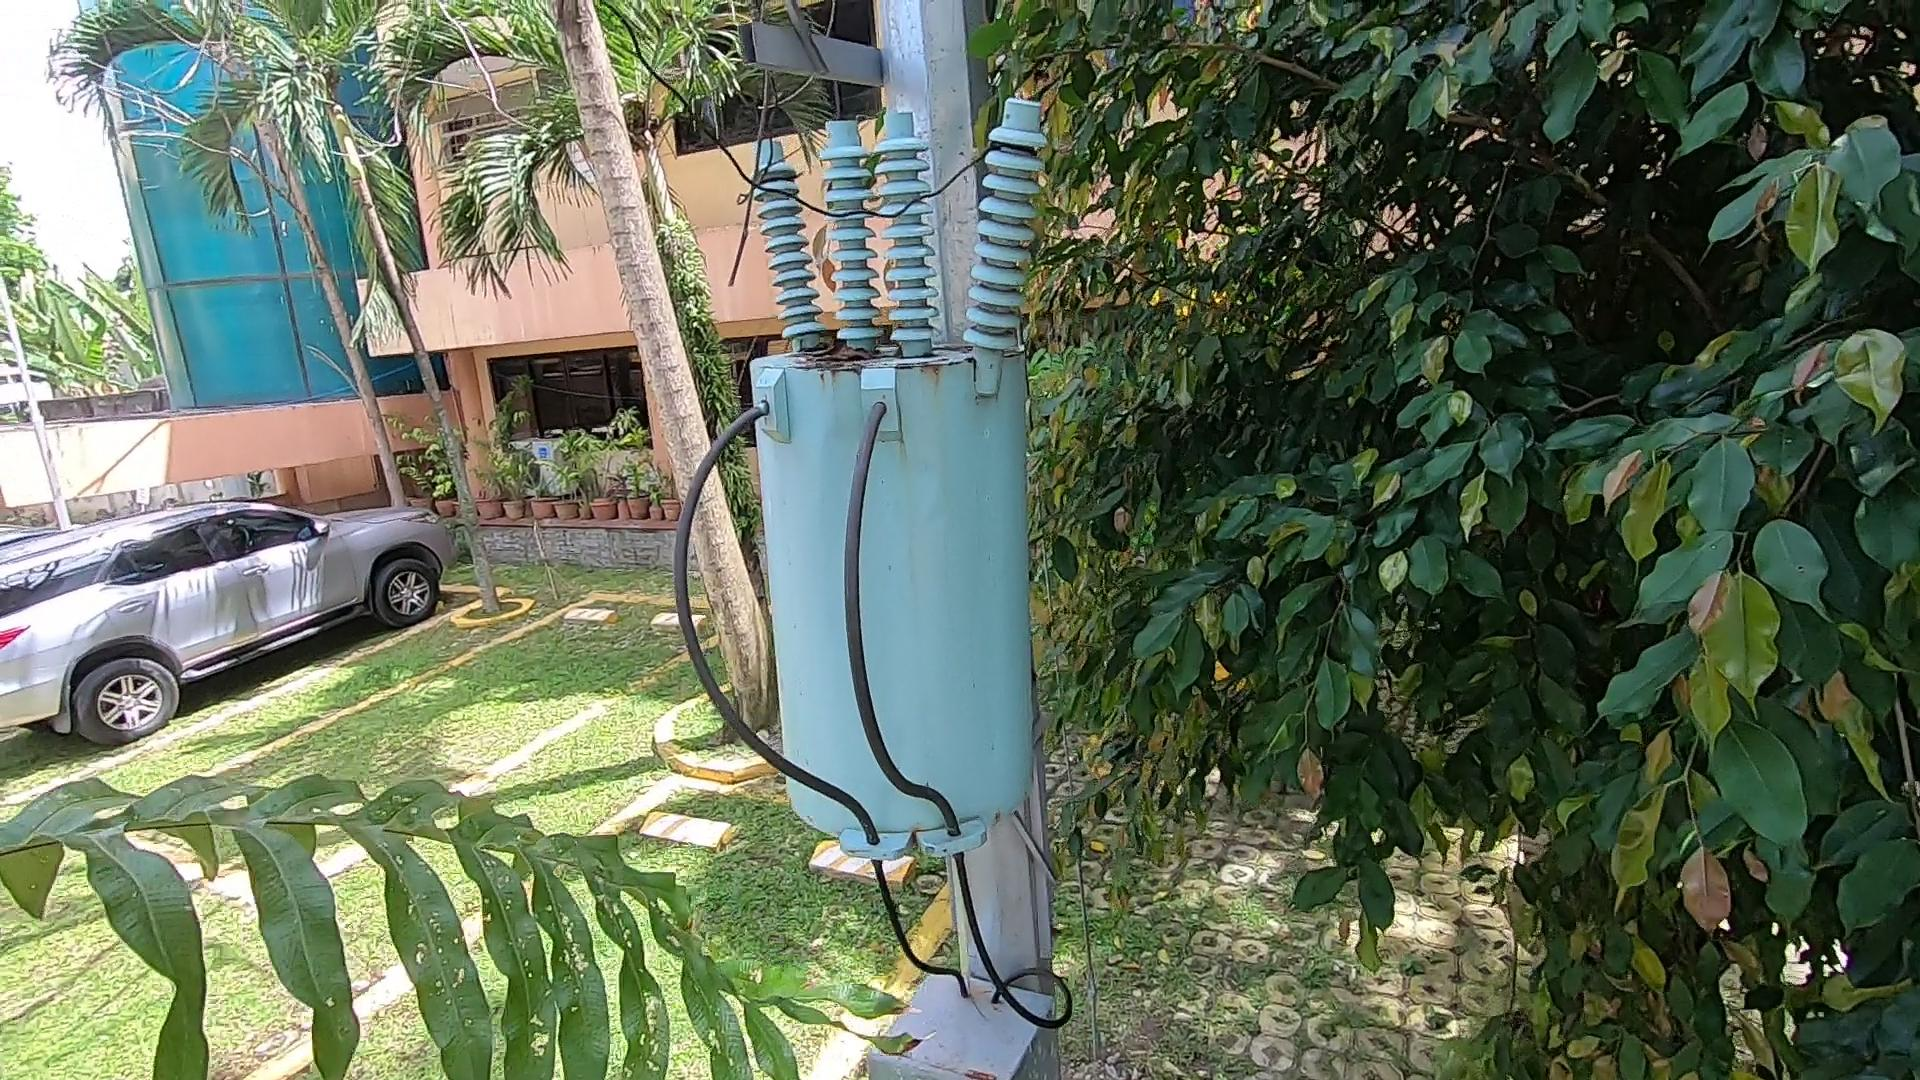leaf: (794, 334, 874, 375)
tree branch: (704, 21, 829, 295)
